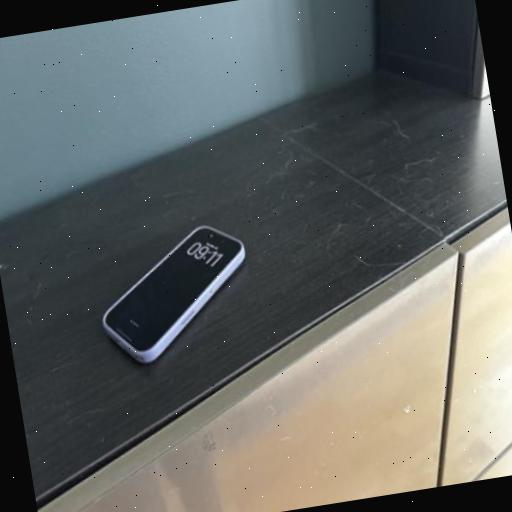phone: (96, 206, 272, 382)
